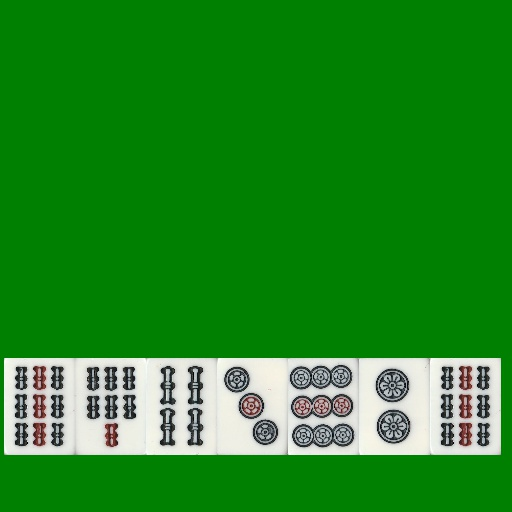2p: (359, 358, 430, 455)
3p: (217, 358, 288, 455)
4s: (146, 358, 217, 455)
7s: (75, 358, 146, 455)
9p: (288, 358, 359, 455)
9s: (4, 358, 75, 455), (430, 358, 501, 455)
